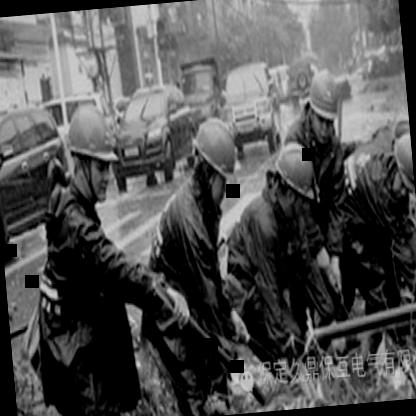helmet: (63, 100, 124, 204), (188, 112, 244, 204), (267, 135, 321, 223), (303, 64, 344, 152), (386, 133, 416, 195), (389, 110, 413, 164)
